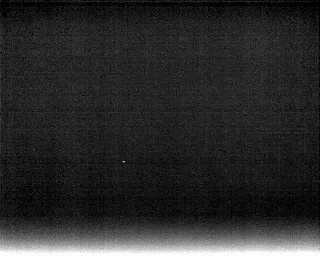AIRPLANE: (119, 158, 127, 166)
